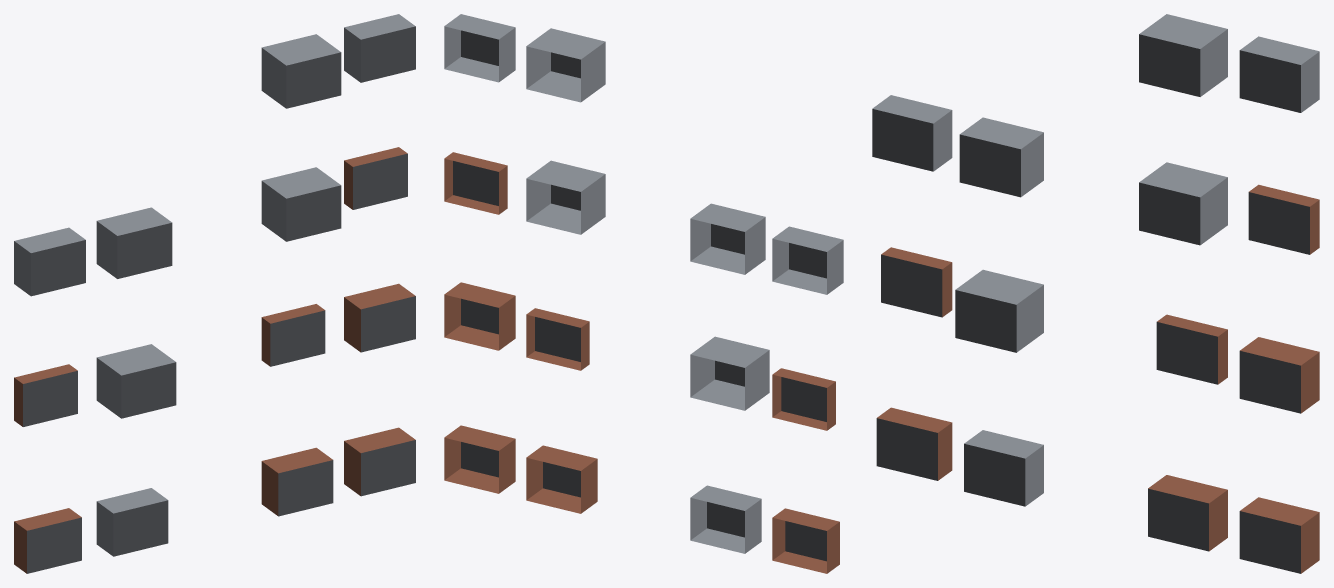
File: island_bldg_18_08.obj
3 renders of one model, left to right at view 1: azimuth 30°, elevation 25°; view 2: azimuth 150°, elevation 25°; view 3: azimuth 330°, elevation 25°, orthographic. The views are drawn at different scales.
Parts seen in each view (by area): view 1: island_bldg_18_08; view 2: island_bldg_18_08; view 3: island_bldg_18_08.
Boxes of the visible parts, x1,y1,x2,y2 form: island_bldg_18_08: (14,14,415,573); island_bldg_18_08: (444,14,843,573); island_bldg_18_08: (872,14,1319,573).
Bounding box in the file's own units: 224 × 254 × 25.
